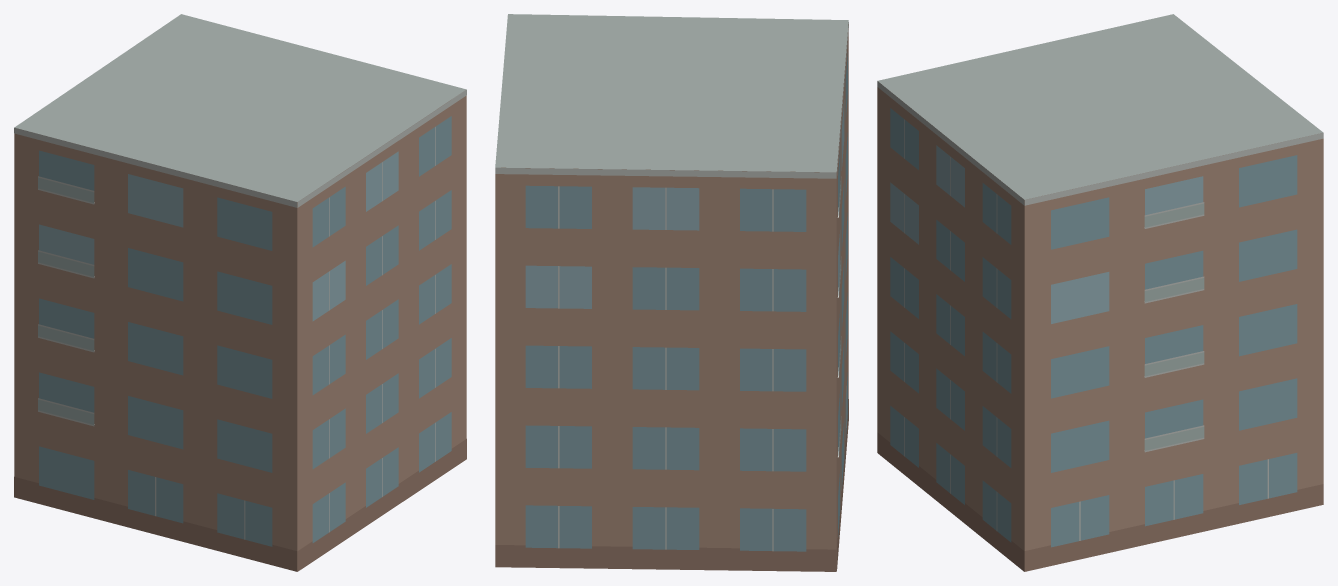
Rendered from survey-upis-33020385.glb.
The picture shows the model from 3 angles, left to right: view 1: azimuth 30°, elevation 25°; view 2: azimuth 150°, elevation 25°; view 3: azimuth 270°, elevation 25°; orthographic projection. The views are drawn at different scales.
Parts seen in each view (by area): view 1: survey-upis-33020385.tmp; view 2: survey-upis-33020385.tmp; view 3: survey-upis-33020385.tmp.
Boxes of the visible parts, left/top/right/bottom form: survey-upis-33020385.tmp: left=14, top=14, right=466, bottom=571; survey-upis-33020385.tmp: left=495, top=14, right=848, bottom=571; survey-upis-33020385.tmp: left=877, top=14, right=1323, bottom=571.
Size of the model in its own units: 16.34 by 15.25 by 16.59.
